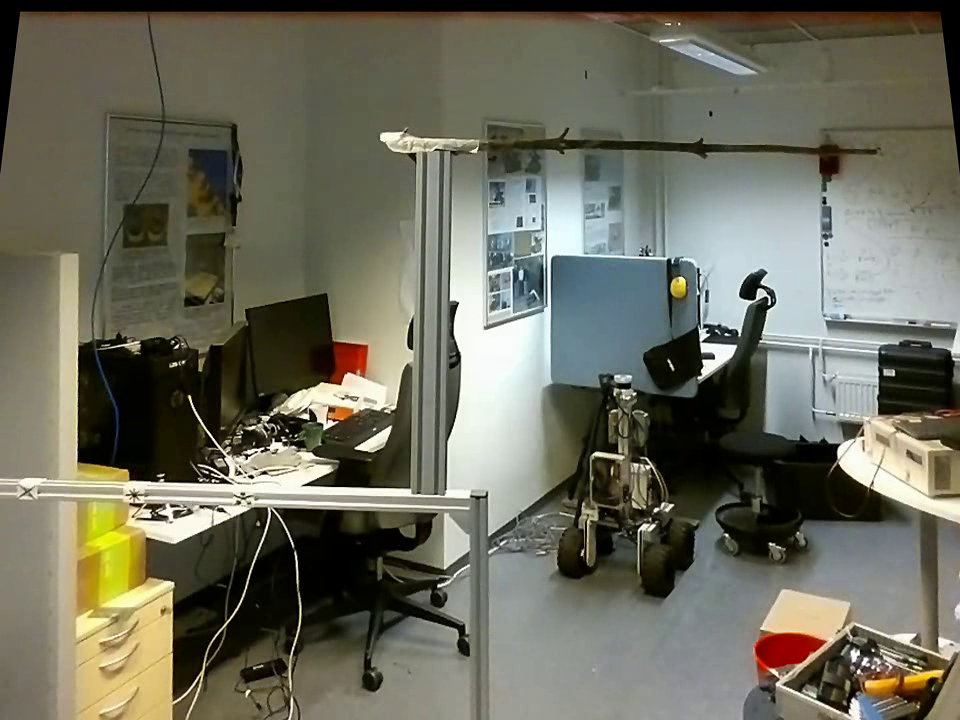aluminum_frame: (2, 473, 471, 517), (403, 154, 451, 492), (460, 486, 497, 717), (819, 306, 955, 337), (816, 124, 833, 318), (818, 121, 956, 133)
branch: (482, 119, 864, 169)
